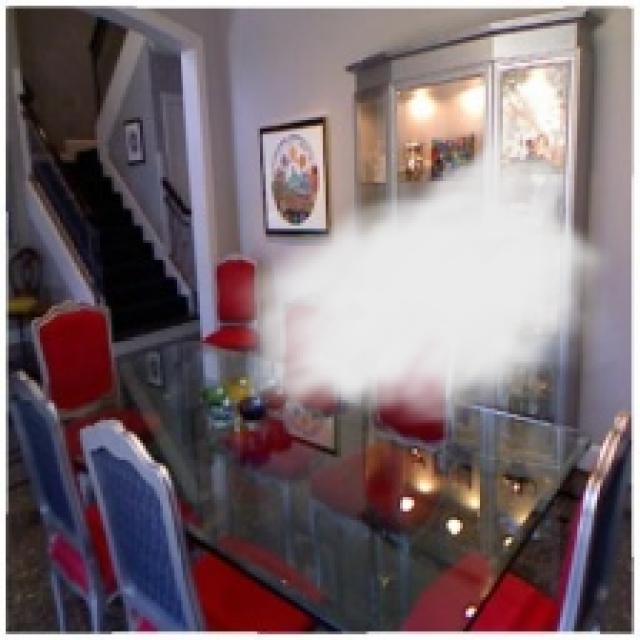smoke: (214, 86, 620, 434)
